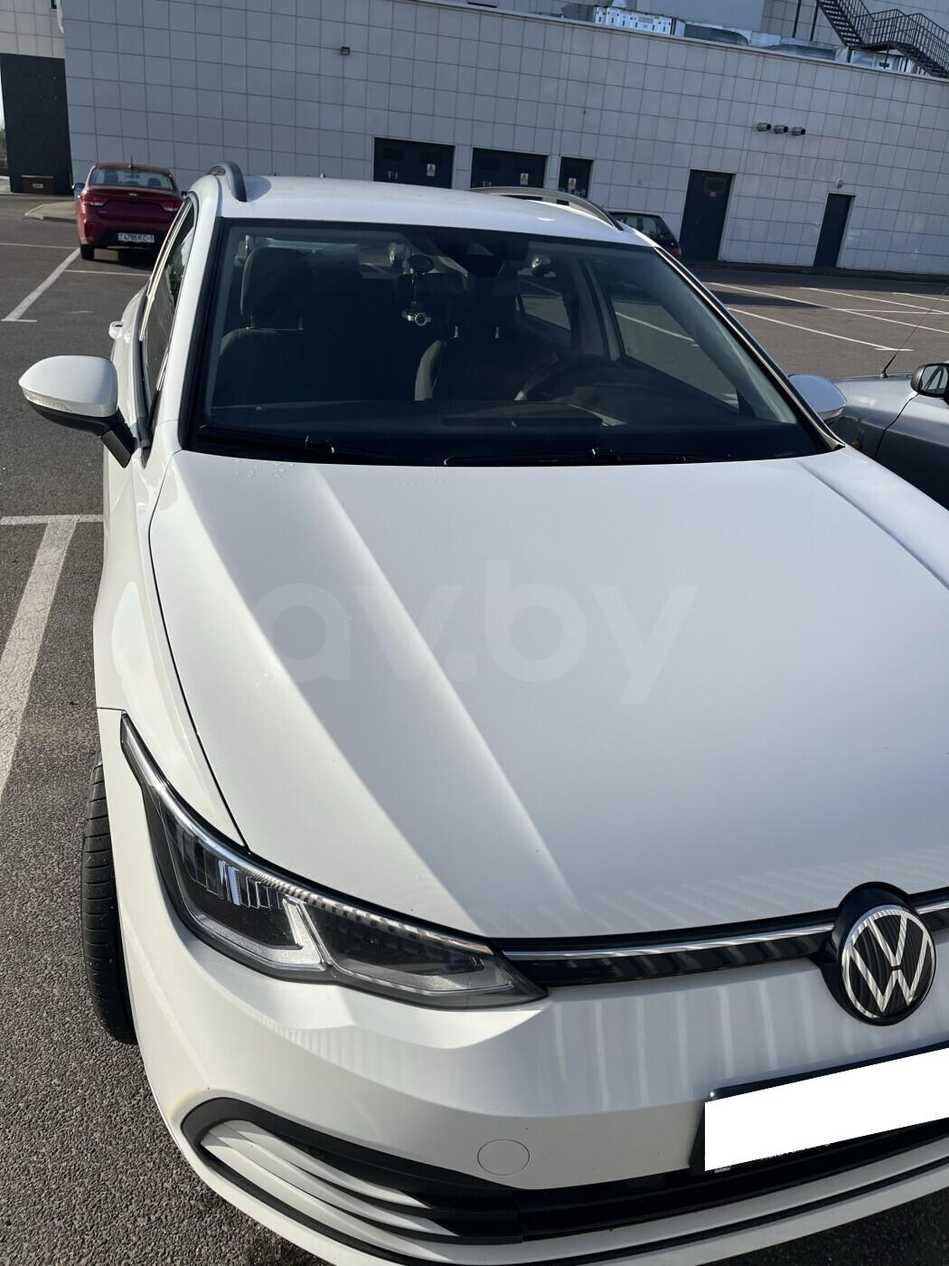Golf_2019: (11, 172, 949, 1266)
